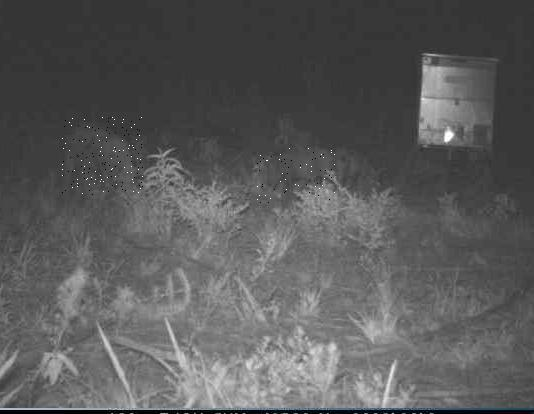Hog: (61, 118, 143, 196), (256, 148, 337, 204), (337, 147, 384, 187)
